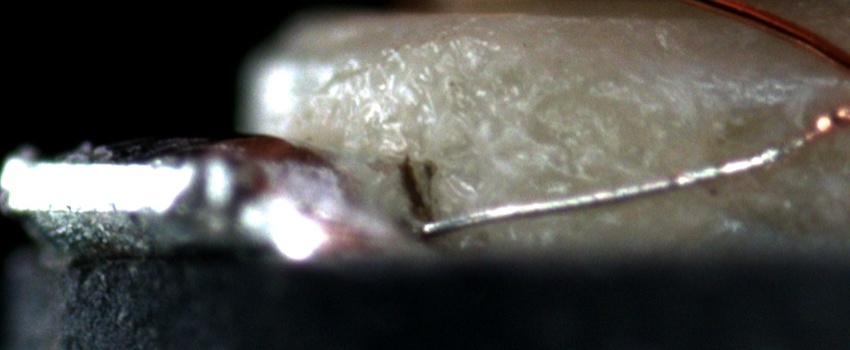DL: (627, 60, 850, 106)
TS: (419, 134, 808, 236)
TTCW: (423, 105, 849, 238)
